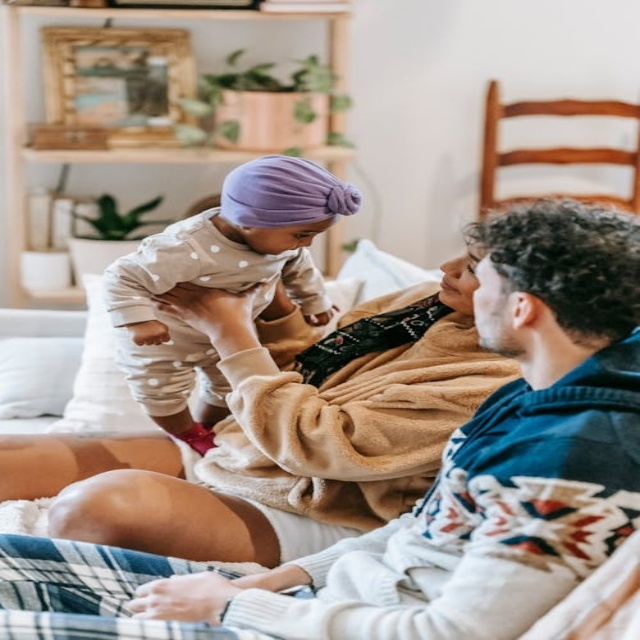Sin_gafas: (457, 237, 484, 276), (274, 227, 333, 240)
Sin_guantes: (124, 570, 246, 627), (154, 275, 257, 341), (119, 316, 174, 346), (301, 305, 336, 326)
Sin_mascara: (439, 269, 468, 305)
